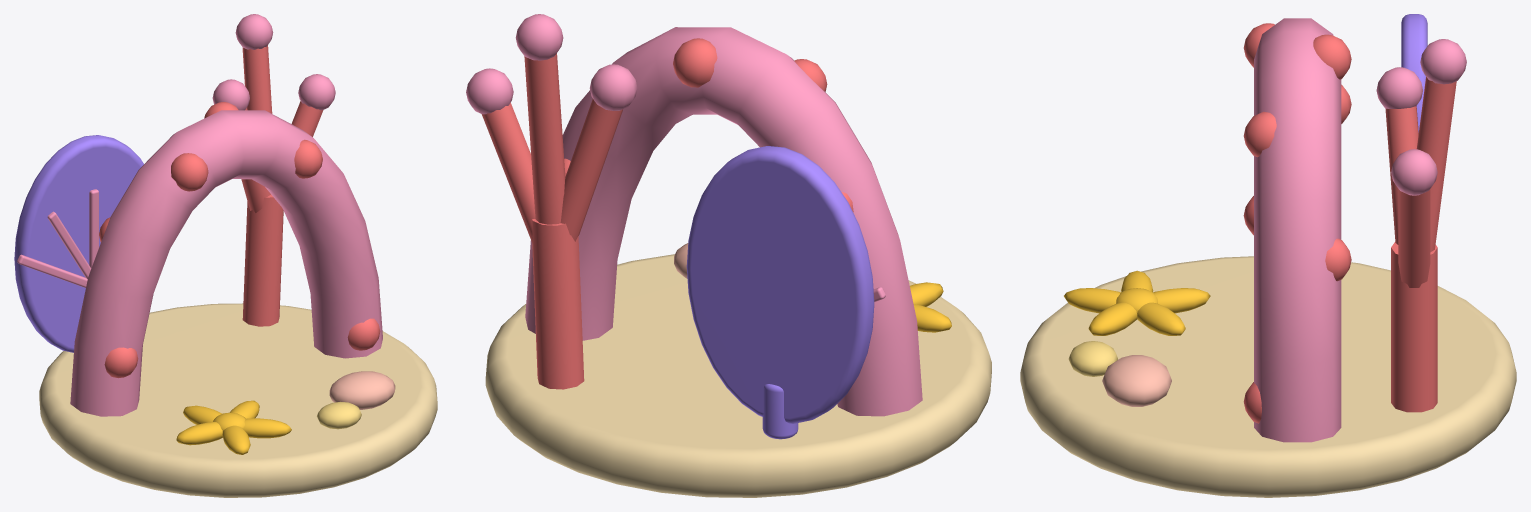
File: DecorCoralArch.fbx
The picture shows the model from 3 angles, left to right: view 1: azimuth 30°, elevation 25°; view 2: azimuth 150°, elevation 25°; view 3: azimuth 270°, elevation 25°; orthographic projection. The views are drawn at different scales.
Visible parts, largest first — view 1: DecorCoralArch mesh; view 2: DecorCoralArch mesh; view 3: DecorCoralArch mesh.
Boxes of the visible parts, x1,y1,x2,y2 form: DecorCoralArch mesh: [14, 14, 437, 497]; DecorCoralArch mesh: [466, 14, 991, 497]; DecorCoralArch mesh: [1020, 14, 1516, 497].
Size of the model in its own units: 0.34 by 0.311 by 0.34.
